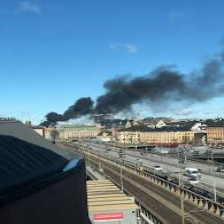smoke: (36, 67, 221, 128)
